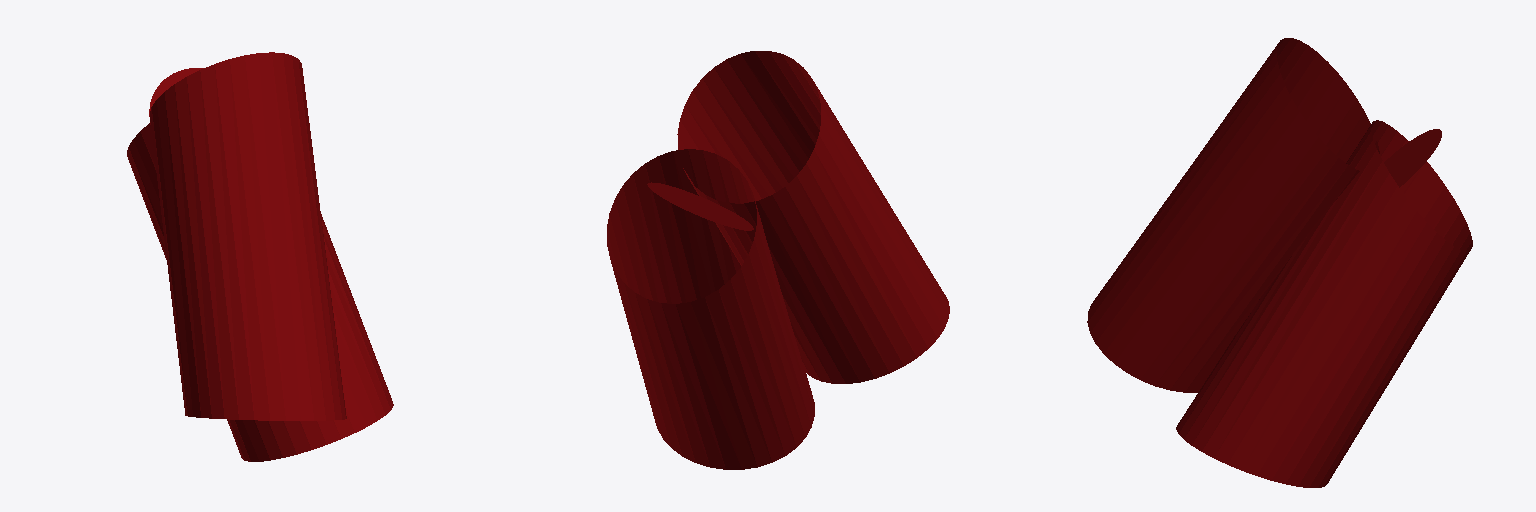
File: A_AntCommunicatingA.obj
The picture shows the model from 3 angles: view 1: azimuth 30°, elevation 25°; view 2: azimuth 150°, elevation 25°; view 3: azimuth 270°, elevation 25°; orthographic projection.
Parts seen in each view (by area): view 1: A_AntCommunicatingA_A_R_ACA_Cylinder.001; view 2: A_AntCommunicatingA_A_R_ACA_Cylinder.001; view 3: A_AntCommunicatingA_A_R_ACA_Cylinder.001.
Part boxes in pixels (left/top/right/bottom): A_AntCommunicatingA_A_R_ACA_Cylinder.001: left=127, top=52, right=393, bottom=461; A_AntCommunicatingA_A_R_ACA_Cylinder.001: left=607, top=51, right=949, bottom=469; A_AntCommunicatingA_A_R_ACA_Cylinder.001: left=1087, top=38, right=1472, bottom=487.
Size of the model in its own units: 3.52 by 5.92 by 5.05.